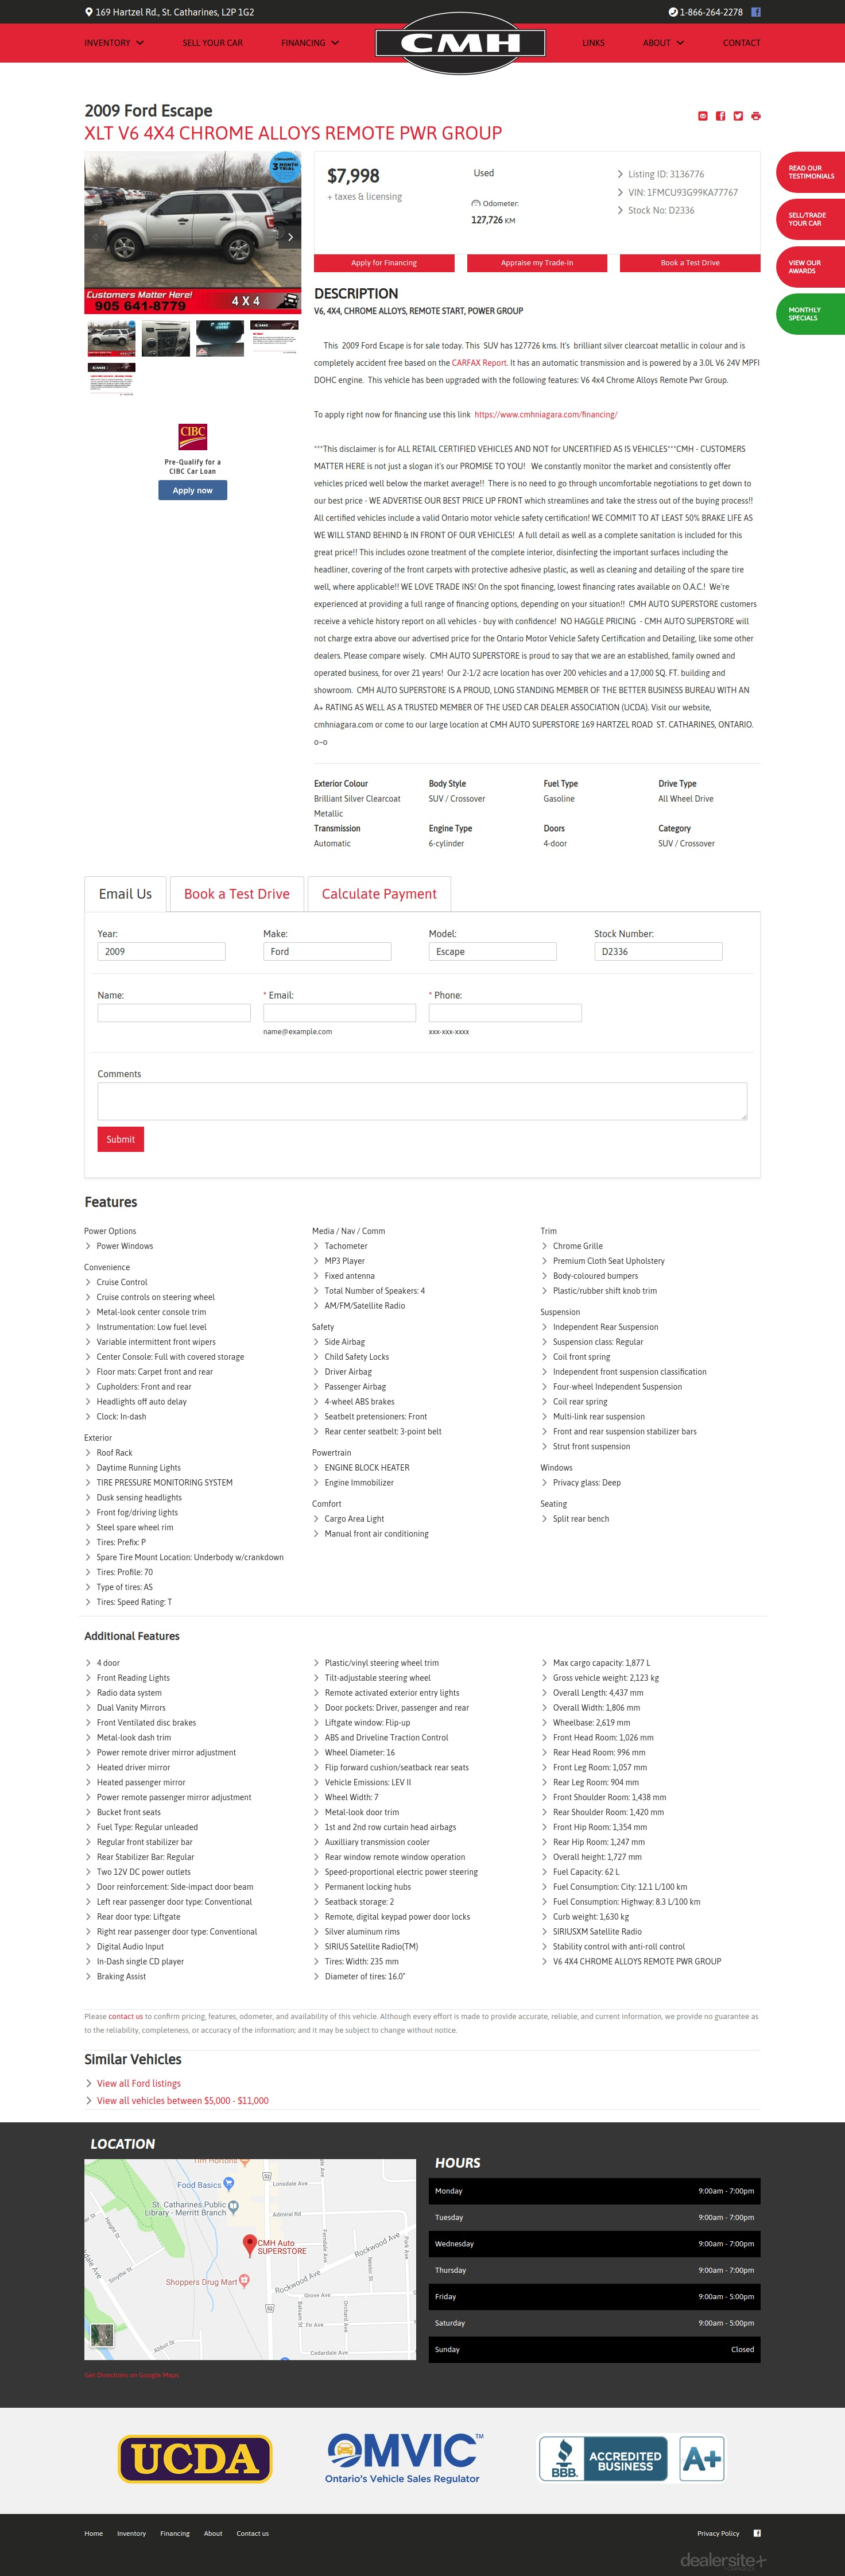car: (279, 225, 302, 250)
